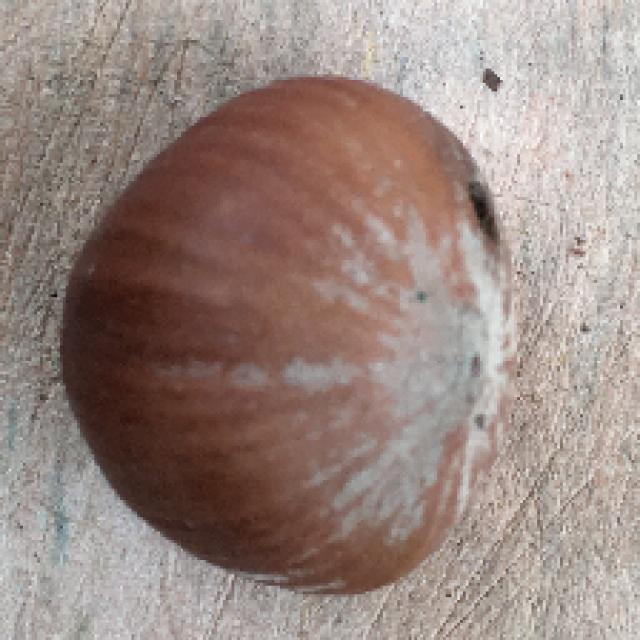damagedHazelnut: (48, 67, 520, 597)
